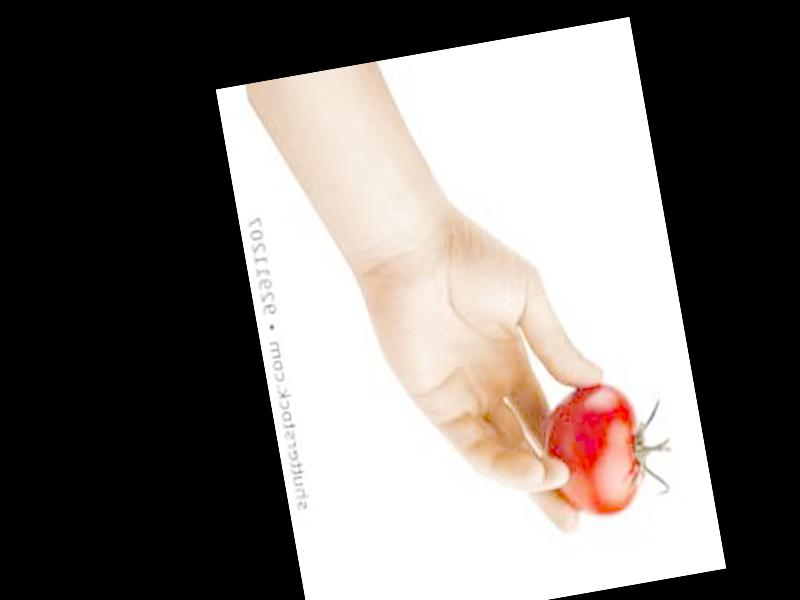Tomato: (534, 377, 653, 526)
